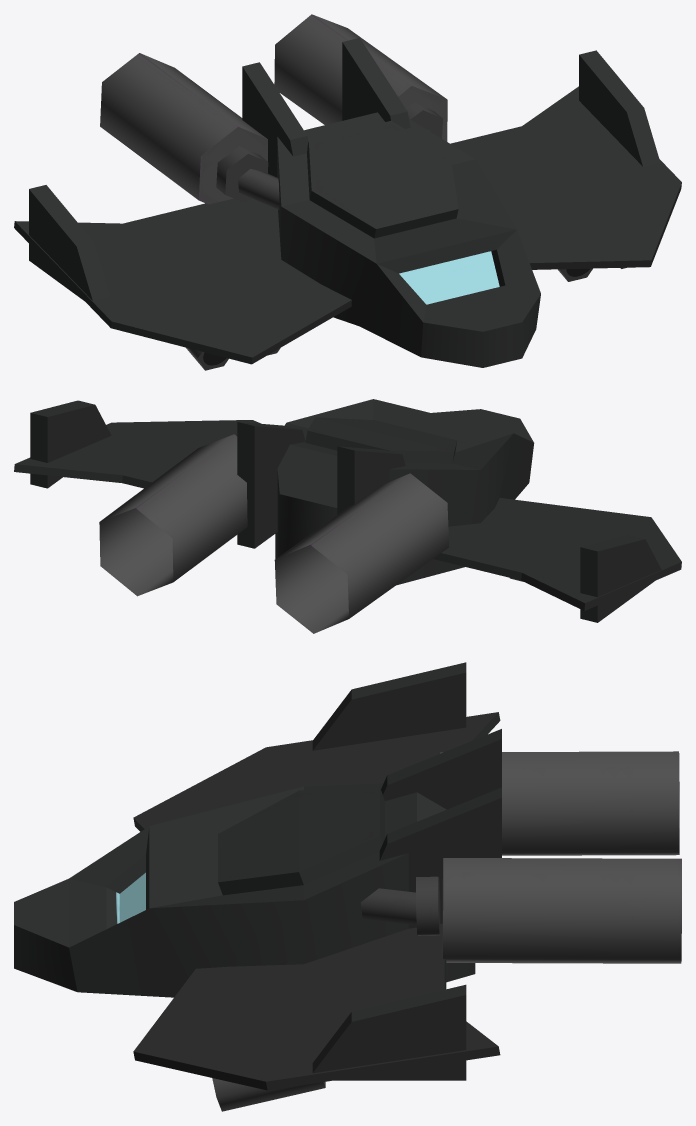
Rendered from flyingenemy.FBX.
3 renders of one model, top to bottom at view 1: azimuth 30°, elevation 25°; view 2: azimuth 150°, elevation 25°; view 3: azimuth 270°, elevation 25°, orthographic. The views are drawn at different scales.
Visible parts, largest first — view 1: Box001, Box005, Box002, Cylinder002, Cylinder011, Box014, Box004, Box007, Box015, Cylinder014, Cylinder013, Cylinder015; view 2: Box001, Cylinder002, Cylinder011, Box005, Box002, Box015, Box014, Box004, Box007; view 3: Box001, Box002, Cylinder011, Cylinder002, Box005, Box004, Box014, Box015, Box007, Cylinder018, Cylinder012, Cylinder015.
Boxes of the visible parts, x1,y1,x2,y2 form: Box001: (277, 112, 540, 367); Box005: (14, 198, 351, 364); Box002: (450, 86, 681, 269); Cylinder002: (100, 53, 267, 204); Cylinder011: (274, 14, 447, 141); Box014: (29, 185, 110, 300); Box004: (579, 50, 660, 166); Box007: (242, 62, 308, 177); Box015: (342, 38, 410, 128); Cylinder014: (216, 146, 268, 203); Cylinder013: (238, 169, 279, 209); Cylinder015: (406, 103, 442, 138); Box001: (275, 399, 534, 585); Cylinder002: (274, 473, 449, 633); Cylinder011: (99, 434, 247, 596); Box005: (433, 498, 681, 610); Box002: (14, 420, 260, 488); Box015: (237, 422, 305, 548); Box014: (580, 535, 661, 622); Box004: (30, 400, 111, 488); Box007: (337, 446, 405, 514); Box001: (14, 783, 475, 997); Box002: (133, 923, 500, 1090); Cylinder011: (442, 858, 681, 963); Cylinder002: (440, 751, 679, 855); Box005: (133, 712, 500, 831); Box004: (312, 984, 466, 1080); Box014: (312, 662, 466, 750); Box015: (379, 787, 501, 928); Box007: (381, 729, 501, 809); Cylinder018: (212, 1078, 325, 1111); Cylinder012: (360, 888, 416, 924); Cylinder015: (416, 876, 440, 935).
Size of the model in its own units: 259 by 78.65 by 218.
Materials: 1 (1 with a texture image).
